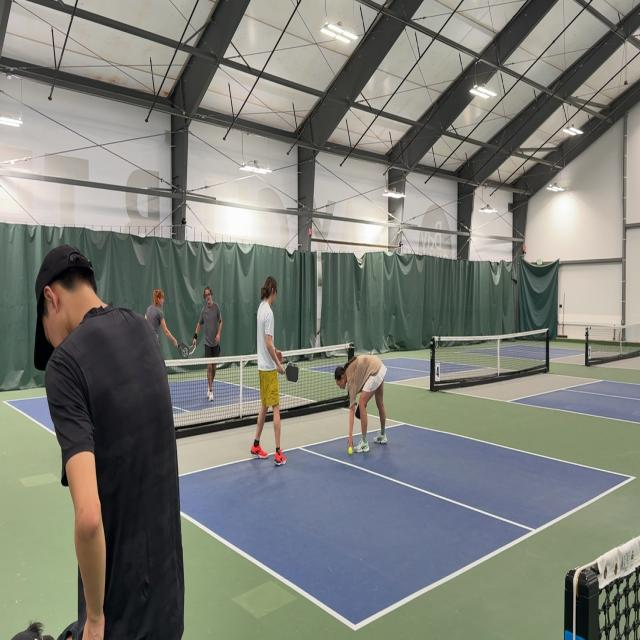ball: (348, 446, 353, 456)
